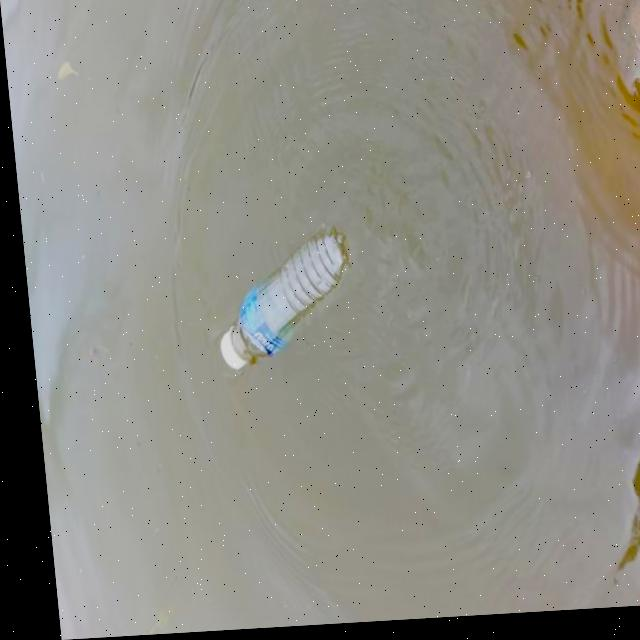waterbottle: (183, 231, 401, 392)
